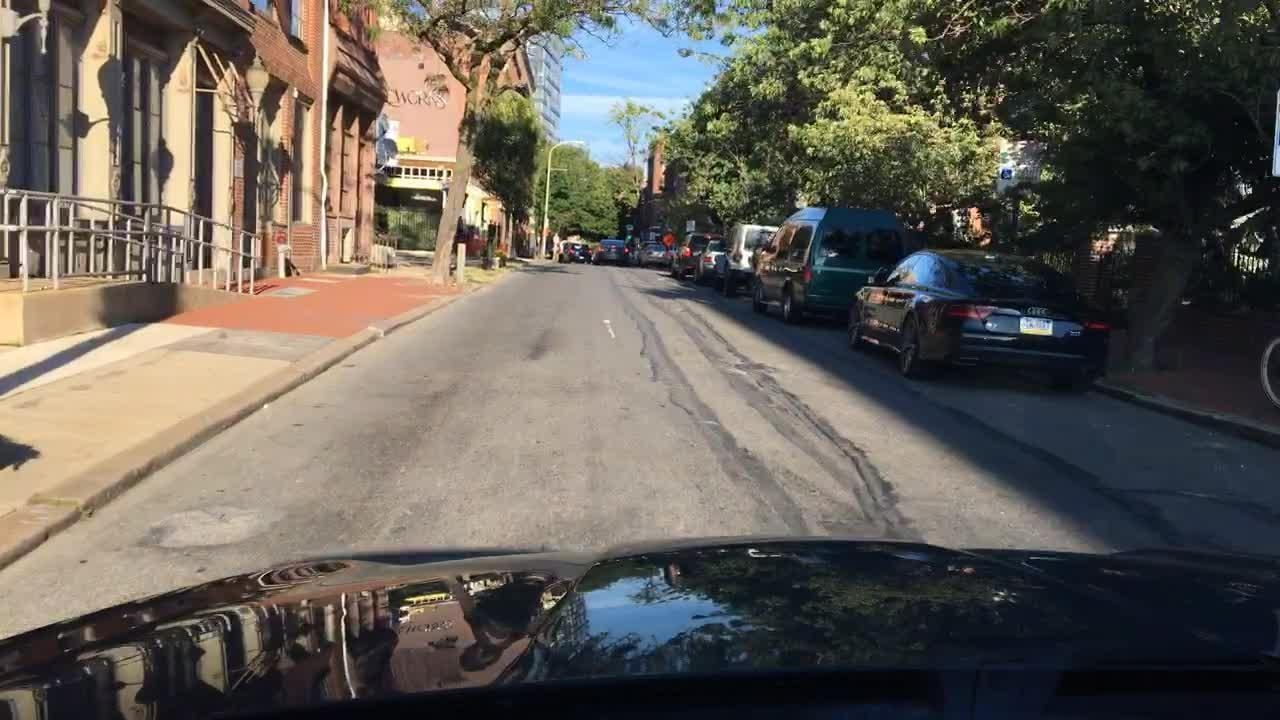Audi: (1023, 302, 1055, 321)
